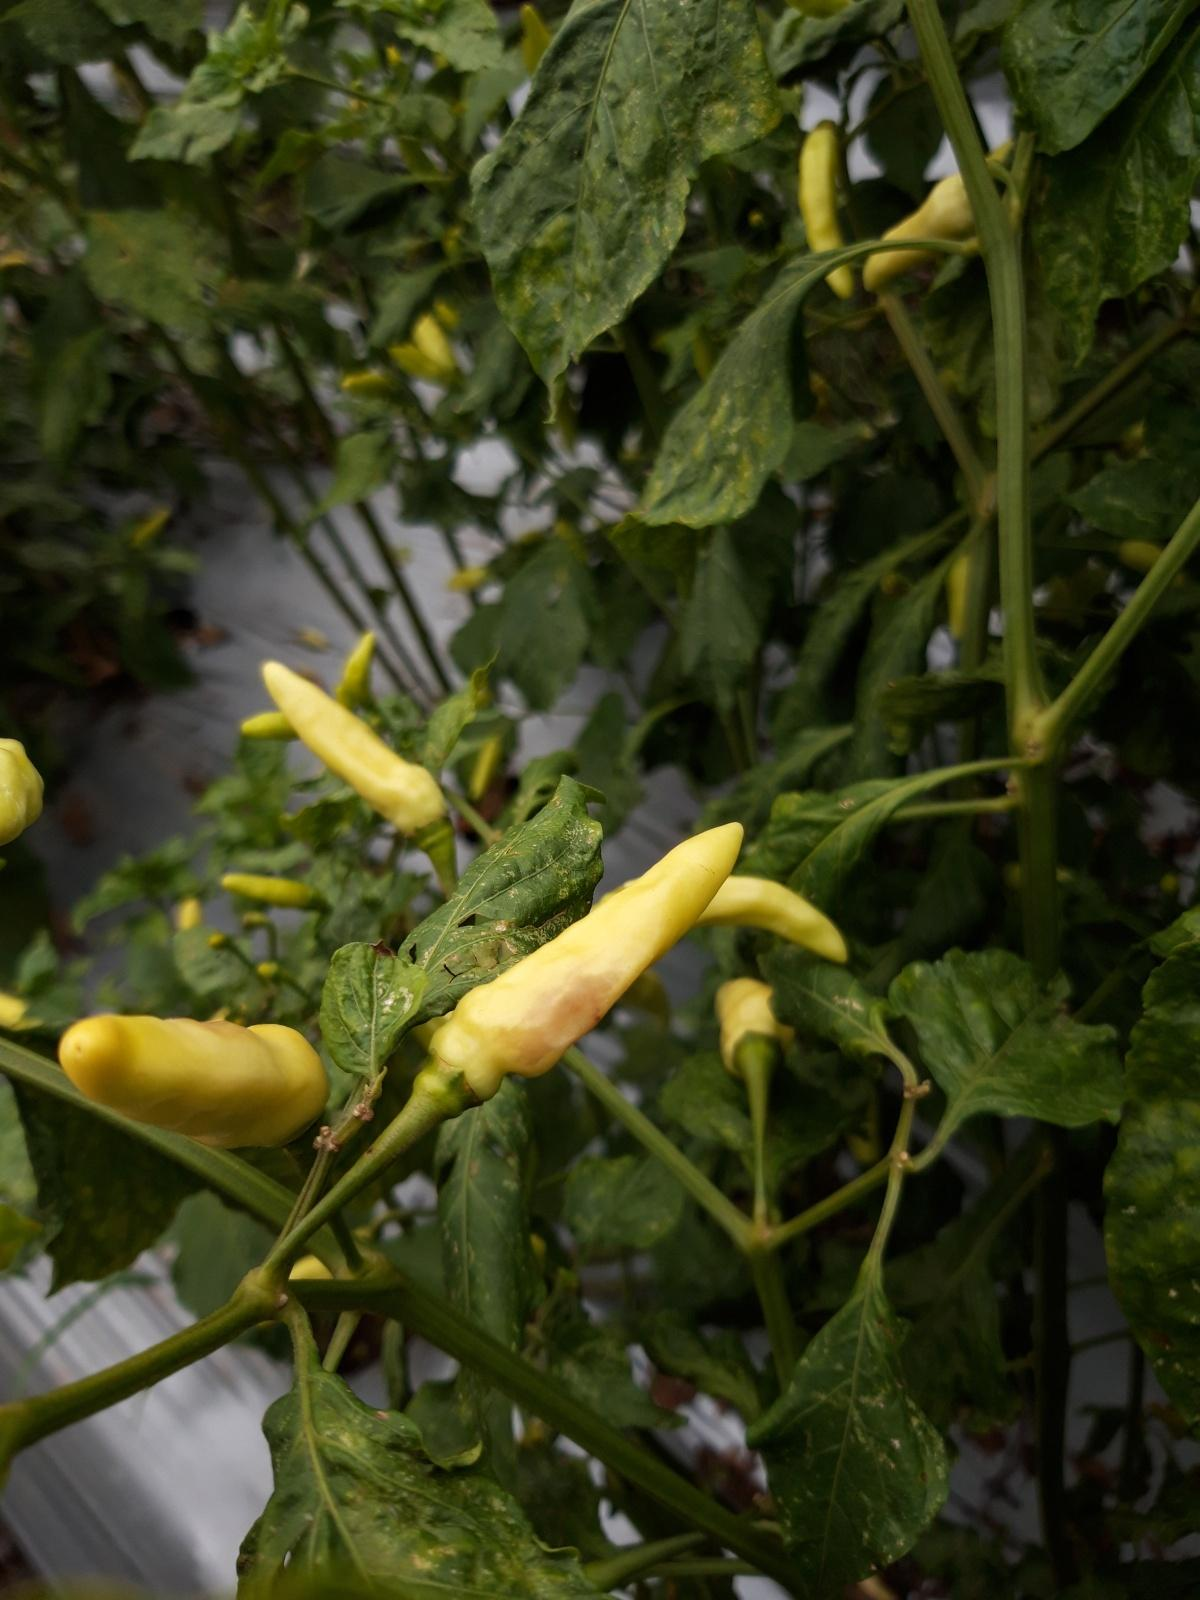cabai_normal: (261, 660, 460, 849), (59, 1010, 330, 1149), (686, 872, 848, 961), (862, 170, 977, 292), (798, 129, 855, 302), (713, 975, 793, 1071)
lalat_buah: (405, 816, 745, 1123)
